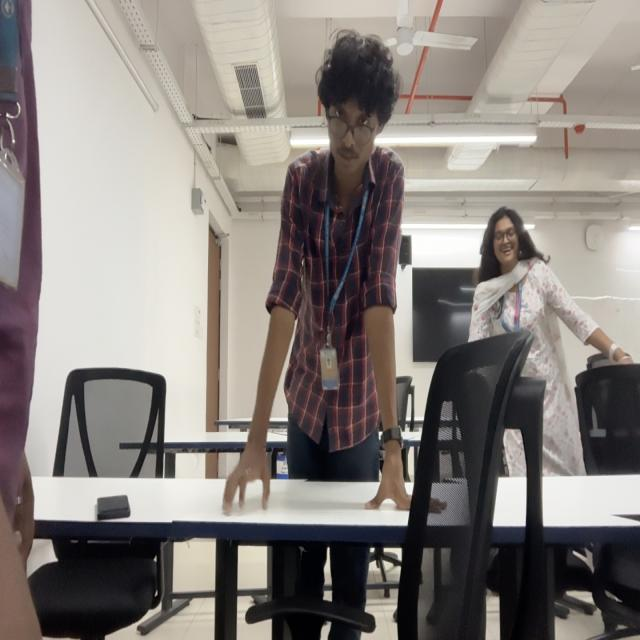darshan: (320, 33, 398, 171)
